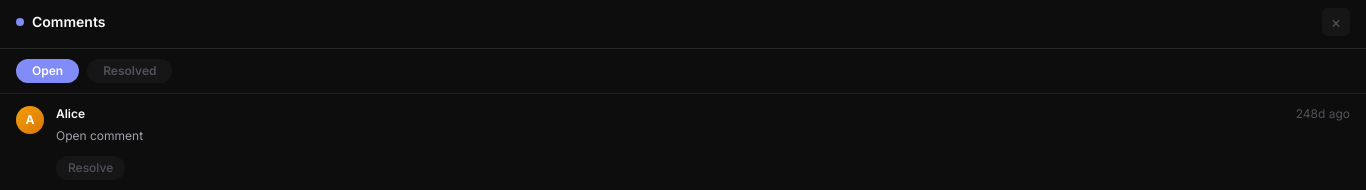
Test: CommentsPanel › shows resolved comments when Resolved tab is selected
Step 1. Click the button "Resolved" → (130, 71), box 87,59 -> 172,83
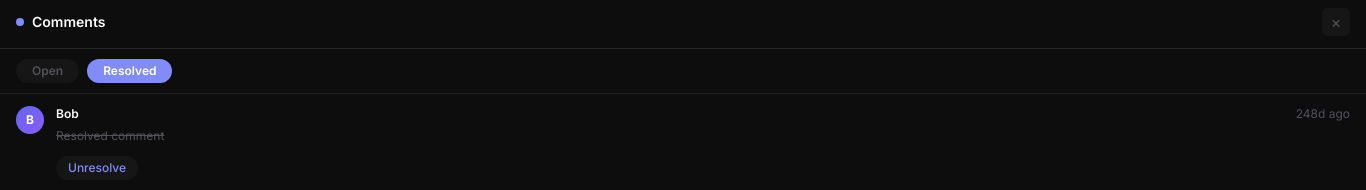
Check: the text "Resolved comment" is shown, box 56,128 -> 164,143
Check: the text "Open comment" is gone
